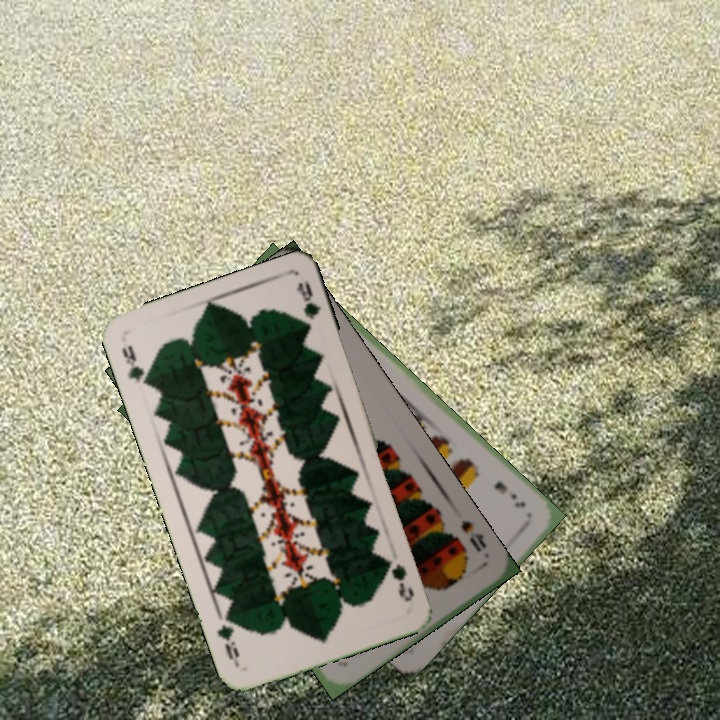E7: (490, 477, 529, 511)
G9: (117, 341, 154, 390), (382, 554, 417, 604)
S8: (456, 516, 489, 555)
